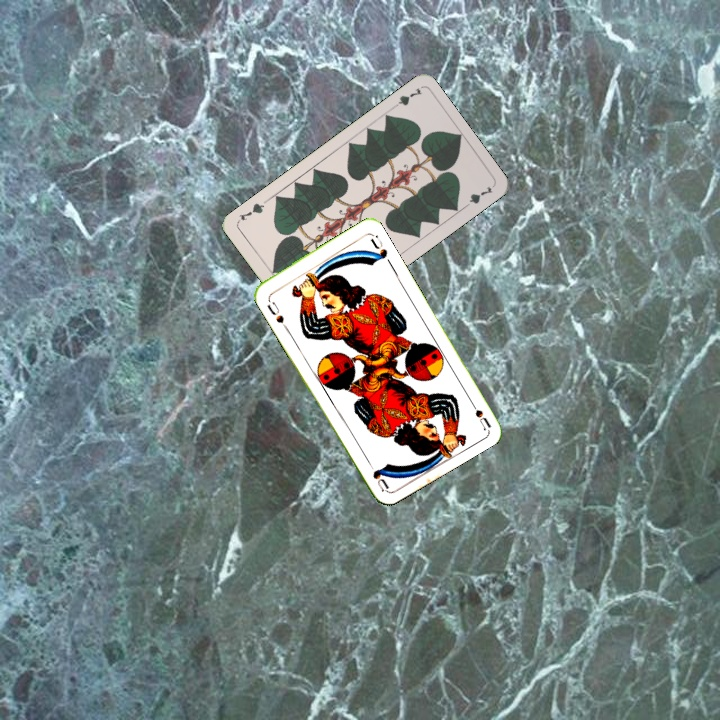G7: (387, 83, 425, 112)
SU: (465, 393, 493, 432), (263, 293, 289, 331)
